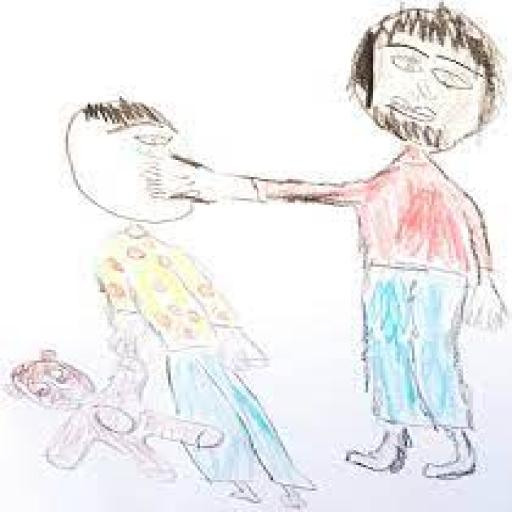person: (141, 0, 512, 482), (53, 91, 317, 510)
